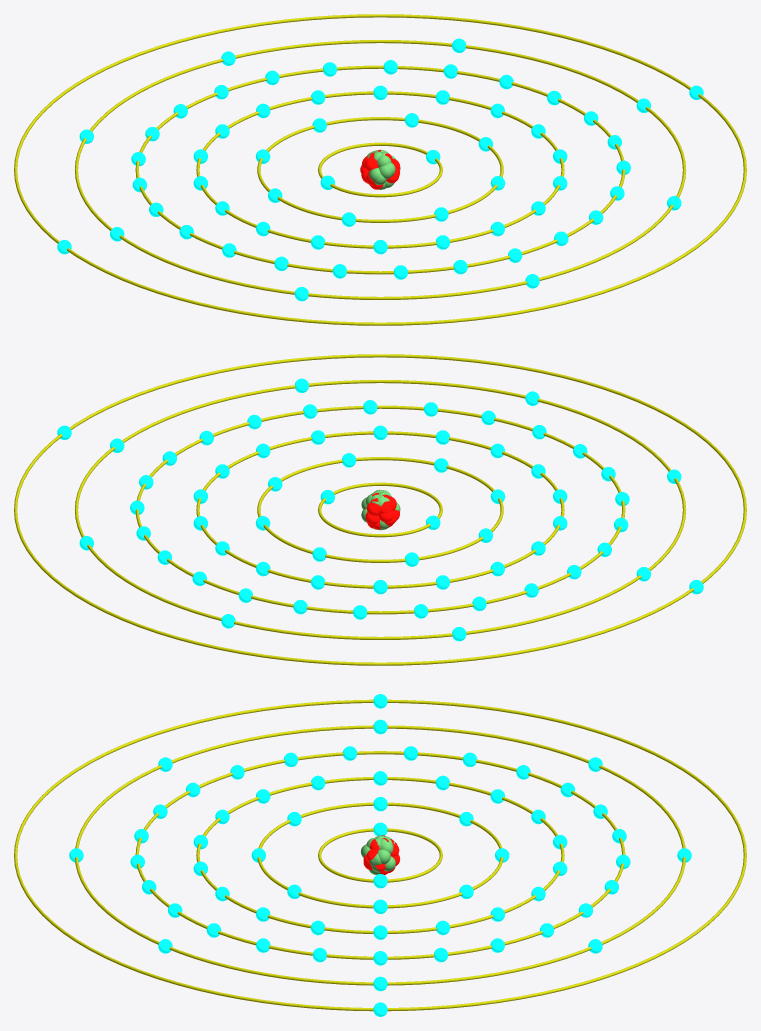
The model's file is atomo_63.glb.
The picture shows the model from 3 angles, top to bottom: view 1: azimuth 30°, elevation 25°; view 2: azimuth 150°, elevation 25°; view 3: azimuth 270°, elevation 25°; orthographic projection.
Parts seen in each view (by area): view 1: orbital_6, orbital_5, orbital_4, orbital_3, orbital_2, orbital_1; view 2: orbital_6, orbital_5, orbital_4, orbital_3, orbital_2, orbital_1; view 3: orbital_6, orbital_5, orbital_4, orbital_3, orbital_2, orbital_1.
Part boxes in pixels (x1=…): orbital_6: x1=14, y1=14, x2=746, y2=325; orbital_5: x1=75, y1=40, x2=685, y2=299; orbital_4: x1=135, y1=65, x2=625, y2=274; orbital_3: x1=196, y1=91, x2=564, y2=248; orbital_2: x1=257, y1=117, x2=503, y2=222; orbital_1: x1=318, y1=142, x2=442, y2=197; orbital_6: x1=14, y1=354, x2=746, y2=665; orbital_5: x1=75, y1=380, x2=685, y2=639; orbital_4: x1=135, y1=405, x2=625, y2=614; orbital_3: x1=196, y1=431, x2=564, y2=588; orbital_2: x1=257, y1=457, x2=503, y2=562; orbital_1: x1=318, y1=482, x2=442, y2=537; orbital_6: x1=14, y1=699, x2=746, y2=1011; orbital_5: x1=75, y1=725, x2=685, y2=985; orbital_4: x1=135, y1=751, x2=625, y2=959; orbital_3: x1=196, y1=777, x2=564, y2=933; orbital_2: x1=257, y1=802, x2=503, y2=908; orbital_1: x1=318, y1=828, x2=442, y2=882.
Size of the model in its own units: 18.36 by 0.993 by 18.08.
